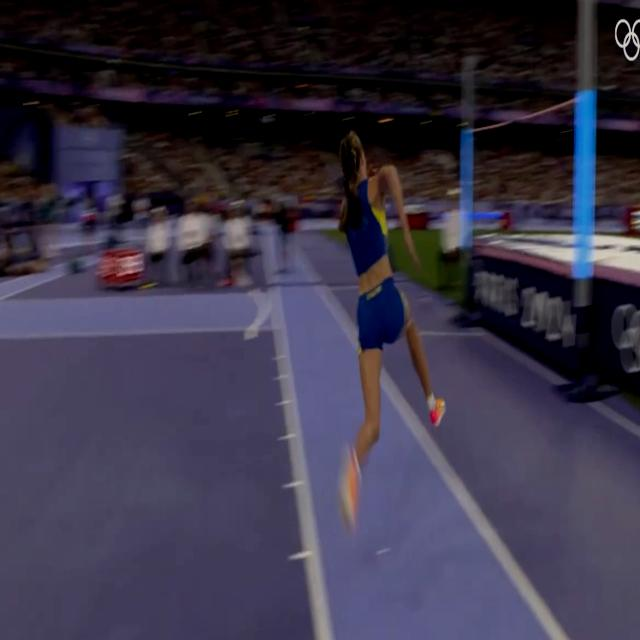run: (338, 132, 450, 532)
